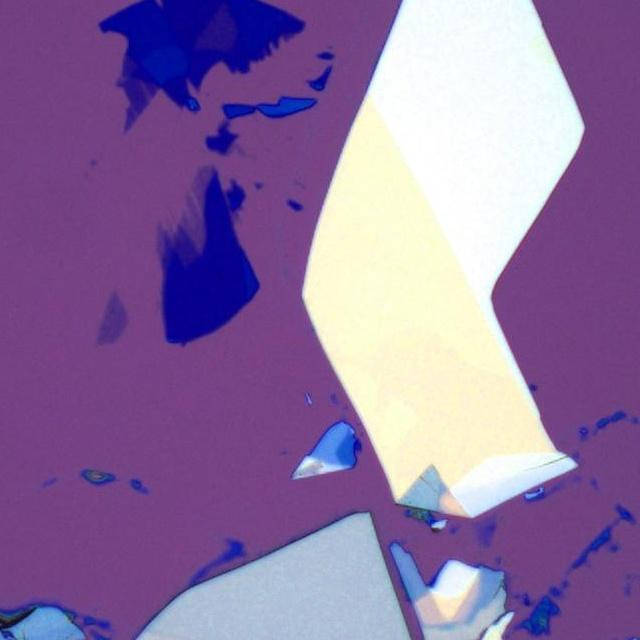monolayer-eWW4: (180, 164, 216, 254), (95, 288, 132, 349)
